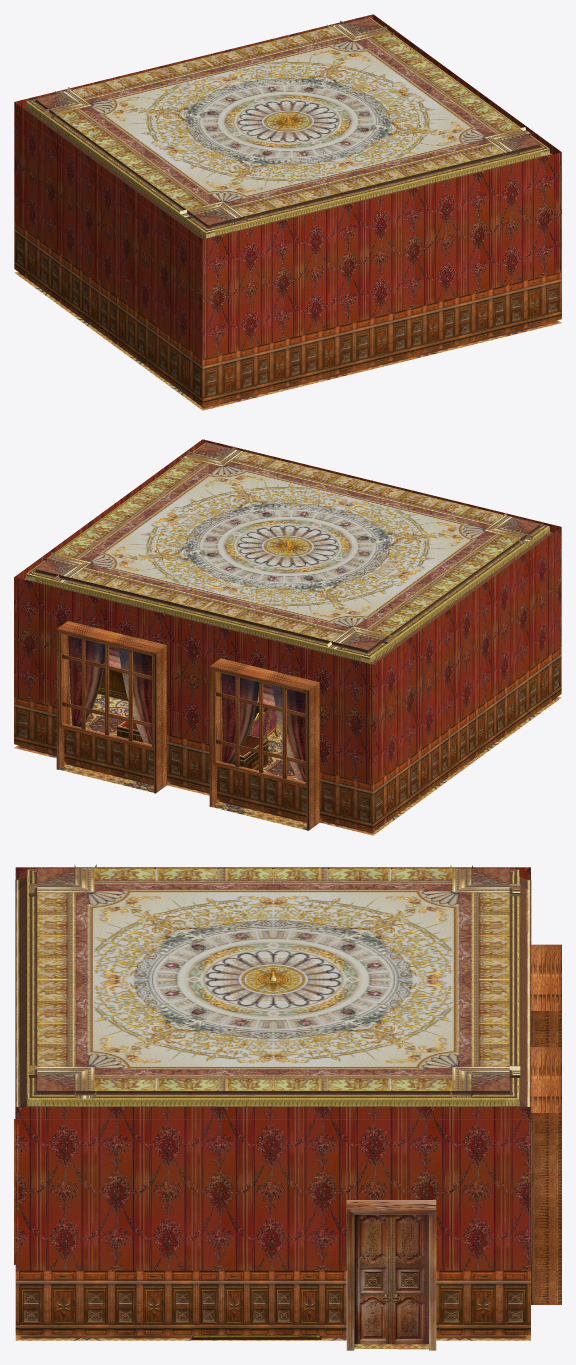
File: room.FBX
The picture shows the model from 3 angles, top to bottom: view 1: azimuth 30°, elevation 25°; view 2: azimuth 150°, elevation 25°; view 3: azimuth 270°, elevation 25°; orthographic projection. The views are drawn at different scales.
Parts seen in each view (by area): view 1: room wallpapers, room roof, room wood, room floor; view 2: room roof, room wallpapers, room wood, room blinds, room floor, table main, komod; view 3: room roof, room wallpapers, room wood, room door, room floor, komod.
Part boxes in pixels (x1,y1,x2,y2): room wallpapers: (14, 14, 561, 359); room roof: (14, 17, 552, 246); room wood: (14, 162, 561, 408); room floor: (14, 272, 561, 410); room roof: (23, 442, 558, 672); room wallpapers: (14, 439, 561, 784); room wood: (14, 621, 561, 833); room blinds: (68, 636, 305, 781); room floor: (14, 694, 561, 835); table main: (116, 705, 268, 770); komod: (98, 668, 128, 701); room roof: (15, 864, 531, 1119); room wallpapers: (15, 867, 530, 1270); room wood: (14, 944, 561, 1338); room door: (346, 1200, 436, 1350); room floor: (15, 1335, 530, 1349); komod: (191, 1335, 321, 1339).
Bounding box in the file's own units: 1147 × 536 × 1063.
